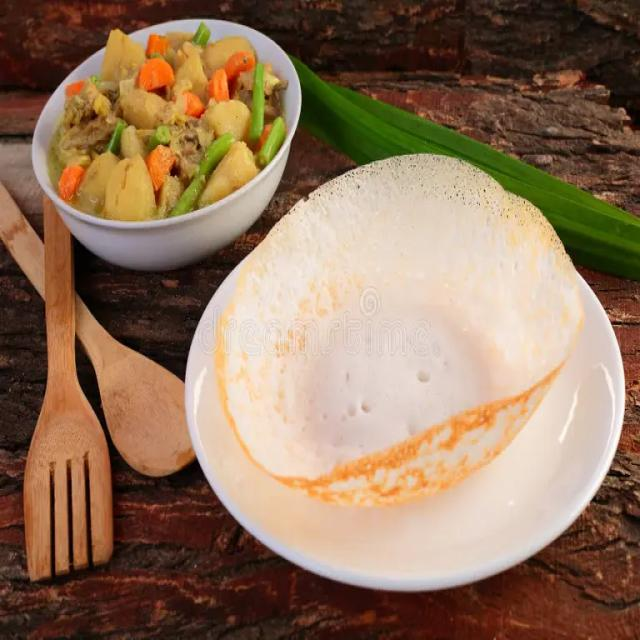AAPAM: (214, 155, 583, 505)
VEGGIES: (48, 25, 286, 219)
